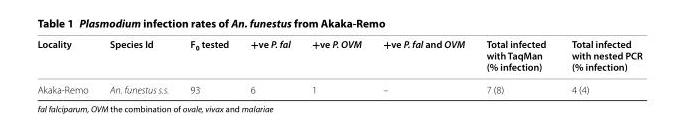table: (36, 37, 641, 94)
table column: (371, 37, 474, 94), (474, 37, 558, 94), (558, 37, 641, 94), (98, 37, 178, 94), (300, 37, 371, 94), (36, 37, 98, 94), (238, 37, 300, 94), (178, 37, 238, 94)
table column header: (36, 37, 641, 77)
table row: (36, 37, 641, 77), (36, 77, 641, 94)
